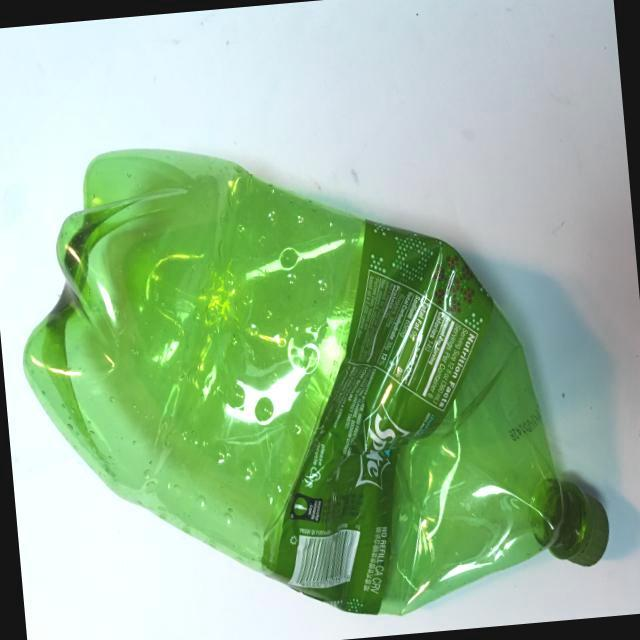plastic: (2, 93, 634, 640)
